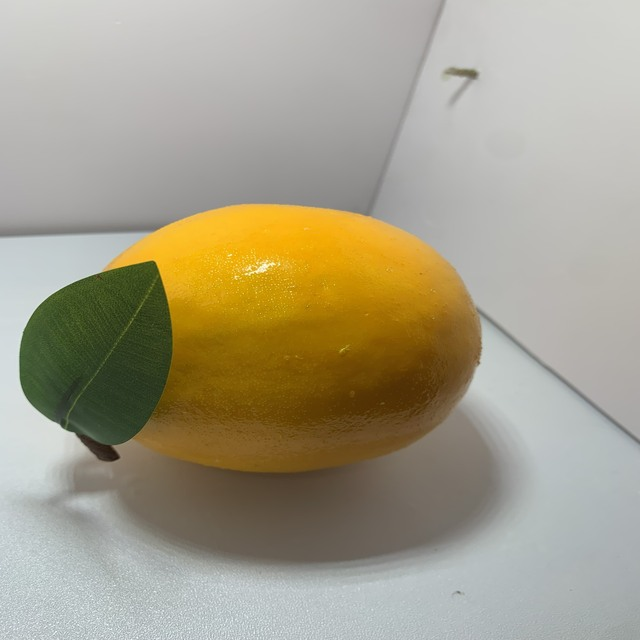Cam vang: (78, 193, 486, 486)
